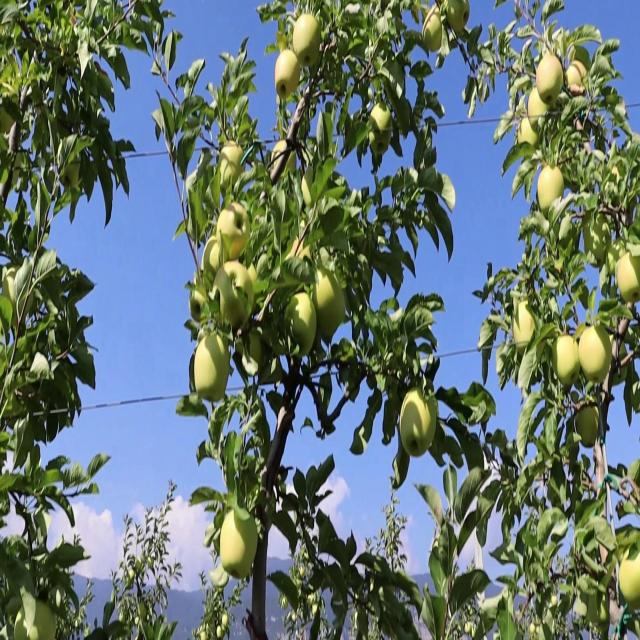apple: (220, 511, 259, 581), (196, 334, 232, 405), (400, 391, 435, 462), (216, 263, 251, 332), (316, 277, 347, 341), (580, 327, 613, 386), (288, 291, 317, 356), (220, 206, 250, 263), (316, 270, 347, 325), (552, 334, 580, 391), (296, 14, 323, 69), (585, 213, 612, 267), (276, 49, 302, 105), (616, 248, 640, 306), (536, 56, 564, 105), (540, 163, 565, 213), (220, 142, 245, 192), (512, 298, 536, 348), (620, 554, 640, 610), (576, 405, 600, 450), (248, 263, 266, 318), (520, 113, 543, 155), (448, 0, 472, 37), (32, 604, 57, 639), (316, 312, 344, 343), (424, 14, 444, 55), (528, 85, 549, 123), (568, 63, 588, 100), (192, 284, 210, 325), (204, 241, 225, 276), (372, 99, 392, 135), (232, 554, 255, 583), (248, 334, 265, 368), (608, 241, 624, 277), (412, 7, 435, 25), (16, 611, 29, 638), (224, 618, 230, 631)
